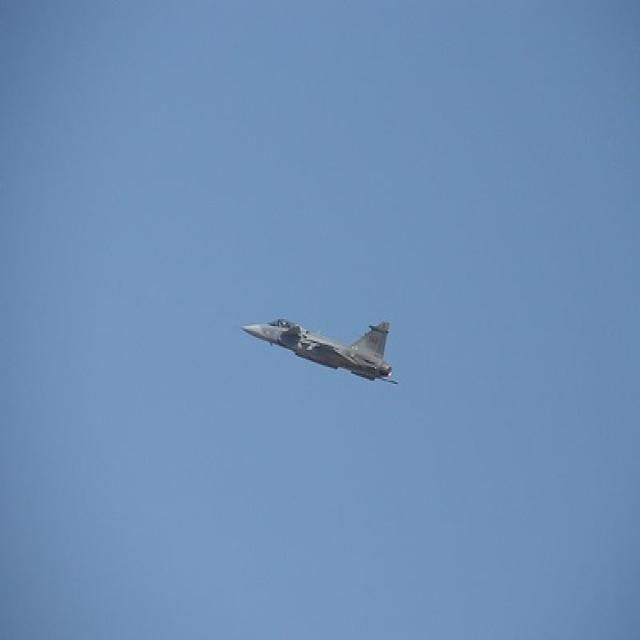aeroplane: (241, 316, 398, 391)
